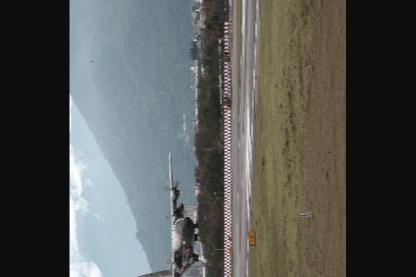Be200: (136, 150, 200, 275)
